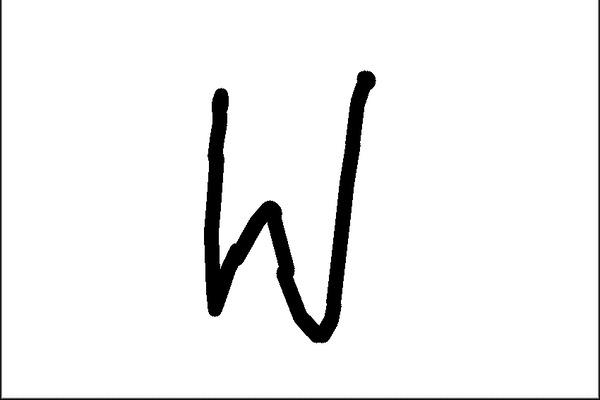w: (189, 50, 383, 355)
